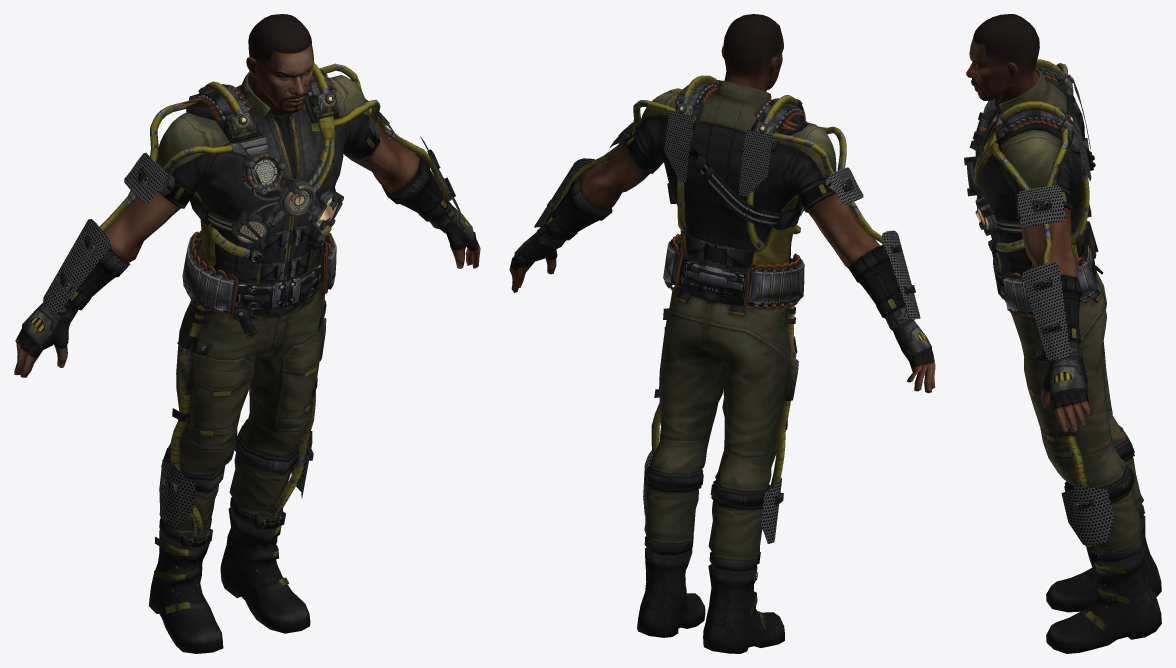
Rendered from electro.glb.
The picture shows the model from 3 angles, left to right: view 1: azimuth 30°, elevation 25°; view 2: azimuth 150°, elevation 25°; view 3: azimuth 270°, elevation 25°; orthographic projection. The views are drawn at different scales.
Visible parts, largest first — view 1: Body_nwhmax.smd; view 2: Body_nwhmax.smd; view 3: Body_nwhmax.smd.
Boxes of the visible parts, <box> form: Body_nwhmax.smd: <box>14,14,480,653</box>; Body_nwhmax.smd: <box>509,14,935,653</box>; Body_nwhmax.smd: <box>964,14,1161,653</box>.
Size of the model in its own units: 1.77 by 2.36 by 0.696.
4 materials, 4 textured.
